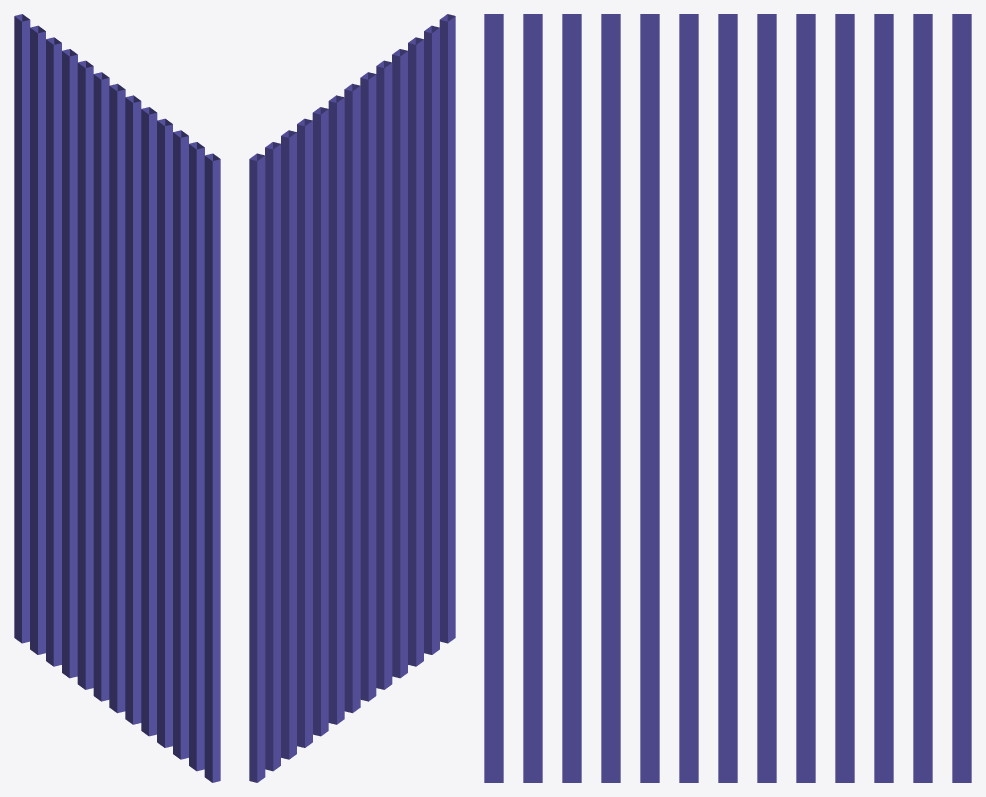
The model's file is S_WoodFence.fbx.
3 renders of one model, left to right at view 1: azimuth 30°, elevation 25°; view 2: azimuth 150°, elevation 25°; view 3: azimuth 270°, elevation 25°, orthographic. The views are drawn at different scales.
Parts seen in each view (by area): view 1: S_WoodFence; view 2: S_WoodFence; view 3: S_WoodFence.
Part boxes in pixels (<box>): S_WoodFence: <box>14,14,220,782</box>; S_WoodFence: <box>249,14,455,782</box>; S_WoodFence: <box>484,14,971,782</box>.
Size of the model in its own units: 7.17 by 515 by 298.
